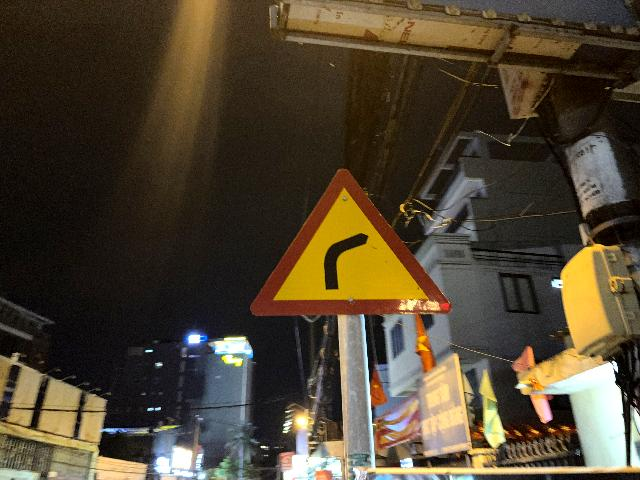cho-ngoat-nguy-hiem-ben-phai: (250, 167, 452, 317)
